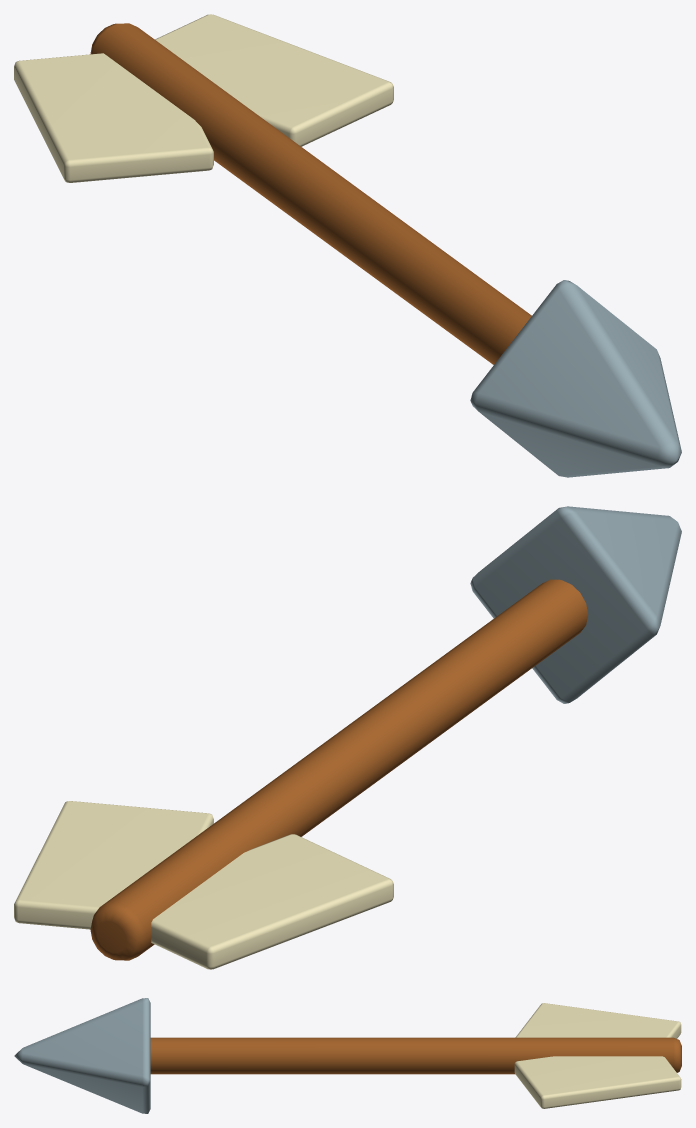
Rendered from CrossBow_Normal.fbx.
3 views of the same model, one above another, from view 1: azimuth 30°, elevation 25°; view 2: azimuth 150°, elevation 25°; view 3: azimuth 270°, elevation 25° (orthographic). The views are drawn at different scales.
Parts seen in each view (by area): view 1: Bolt shaft, Piercing head, Fletching, Fletching.001; view 2: Bolt shaft, Piercing head, Fletching, Fletching.001; view 3: Bolt shaft, Piercing head, Fletching.001, Fletching.
Part boxes in pixels (x1,y1,x2,y2): Bolt shaft: [90, 23, 531, 364]; Piercing head: [470, 280, 681, 477]; Fletching: [14, 53, 213, 182]; Fletching.001: [155, 14, 393, 146]; Bolt shaft: [90, 579, 588, 960]; Piercing head: [470, 506, 681, 703]; Fletching: [151, 834, 393, 969]; Fletching.001: [14, 801, 213, 929]; Bolt shaft: [150, 1037, 681, 1074]; Piercing head: [14, 998, 150, 1113]; Fletching.001: [514, 1056, 681, 1108]; Fletching: [515, 1003, 681, 1038].
Bounding box in the file's own units: 66.66 × 38.02 × 199.
